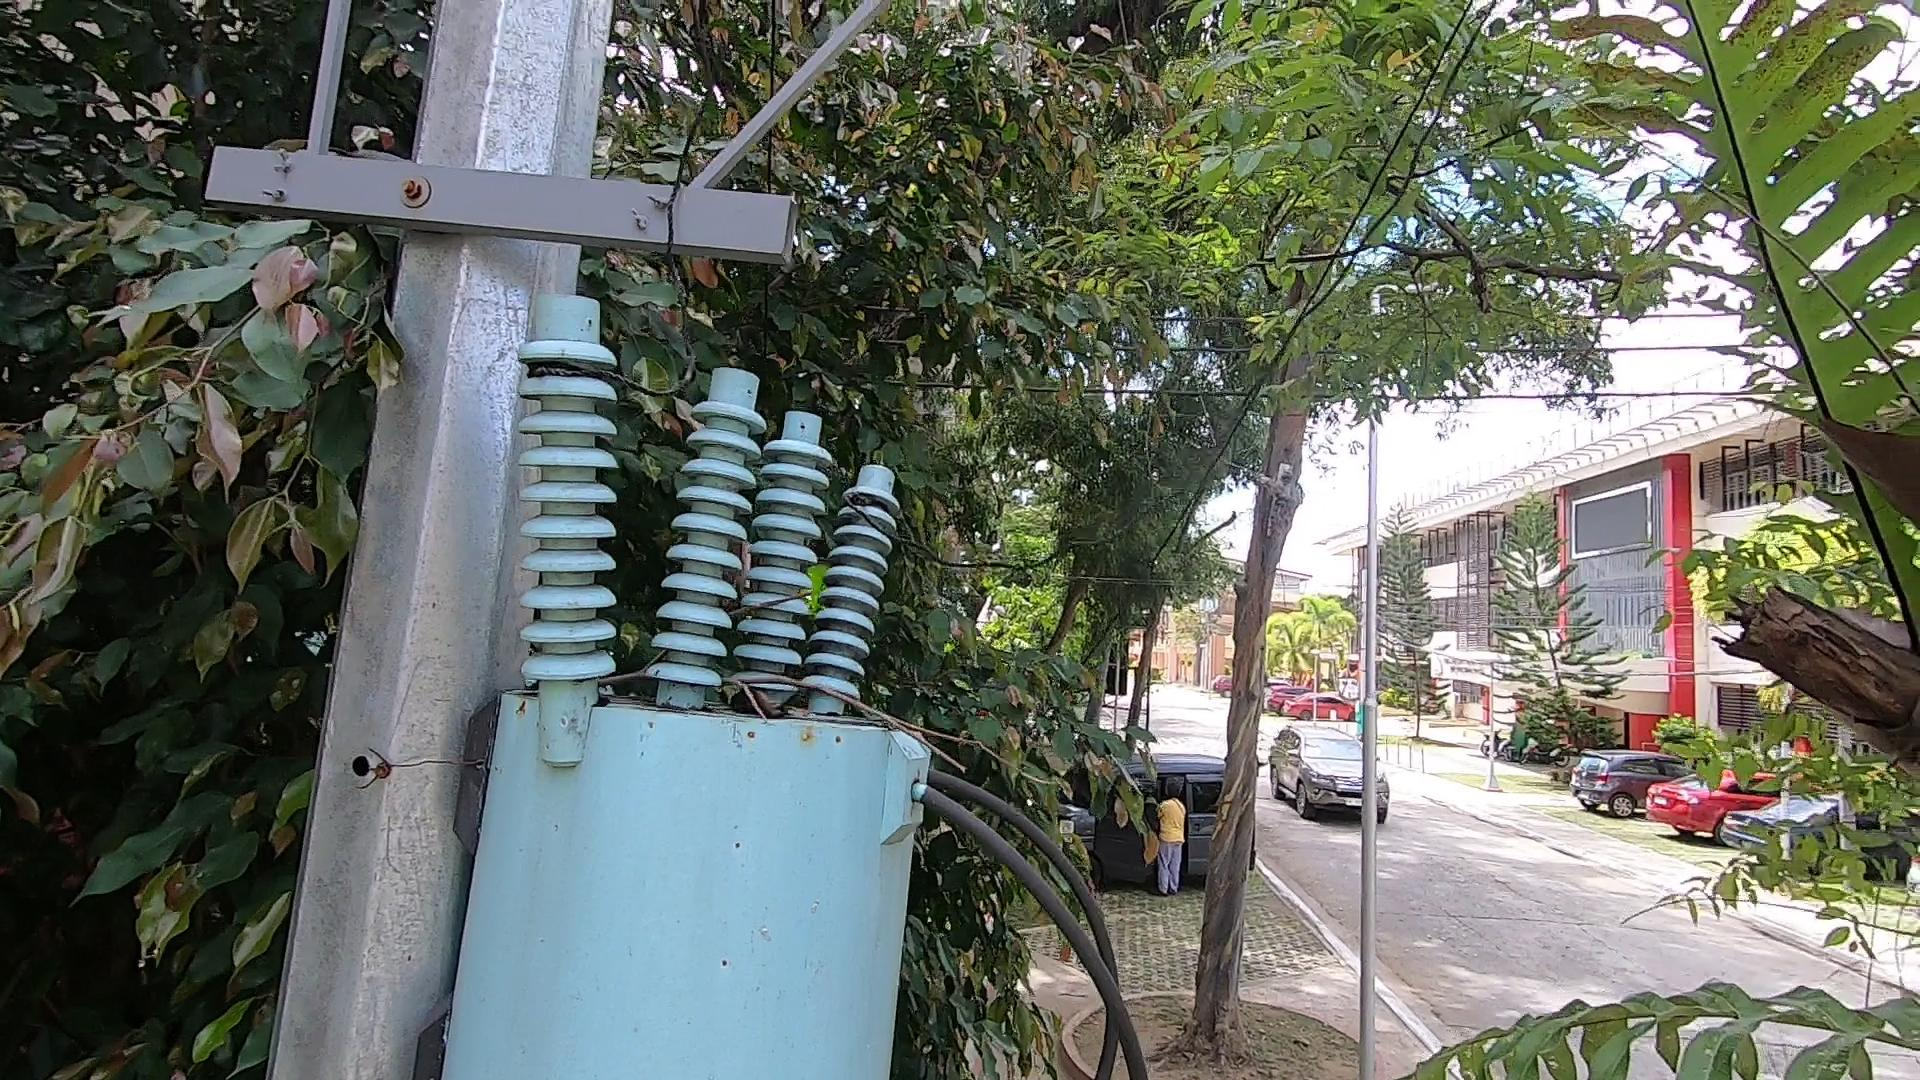leaf: (713, 682, 793, 731)
tree branch: (579, 625, 1054, 823)
